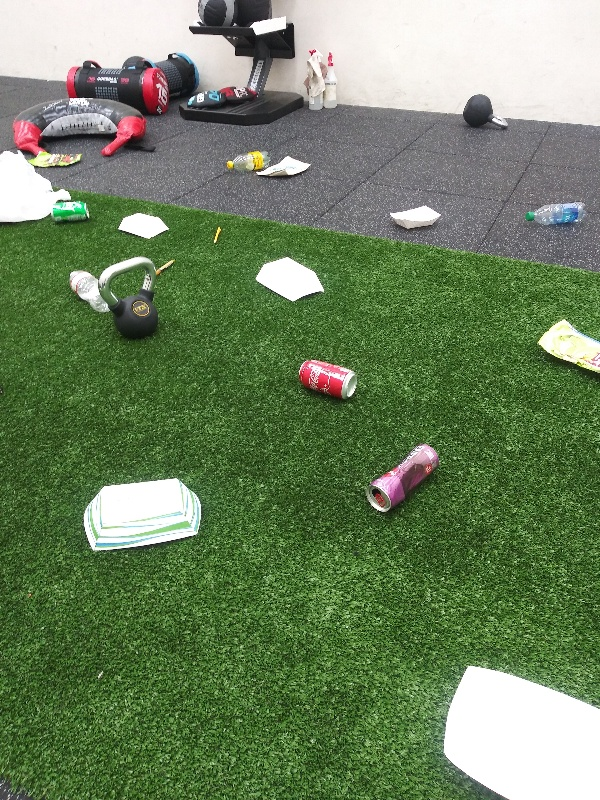bag: (534, 315, 600, 378), (253, 153, 315, 182), (24, 148, 85, 169)
bottle: (65, 267, 114, 314), (522, 197, 589, 228), (221, 148, 275, 172)
can: (362, 439, 443, 517), (299, 358, 361, 403), (48, 198, 94, 223)
plate: (438, 664, 600, 799), (79, 477, 207, 559), (252, 253, 328, 305), (115, 209, 172, 242), (387, 204, 444, 231)
